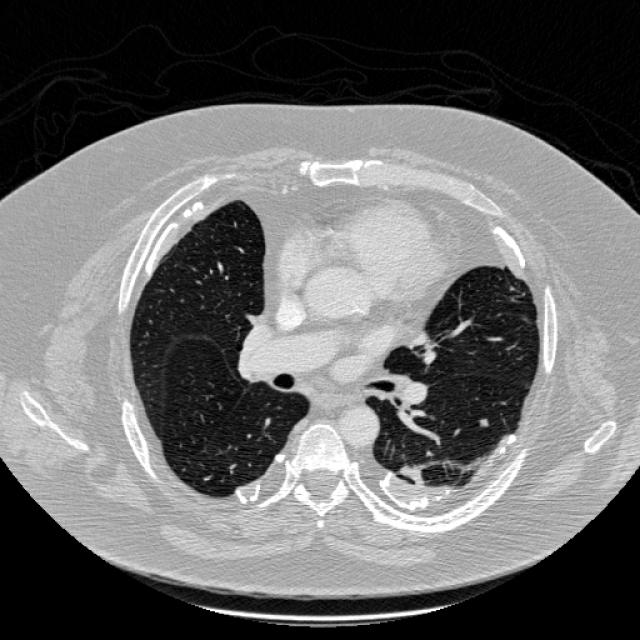nodule: (474, 412, 491, 430)
